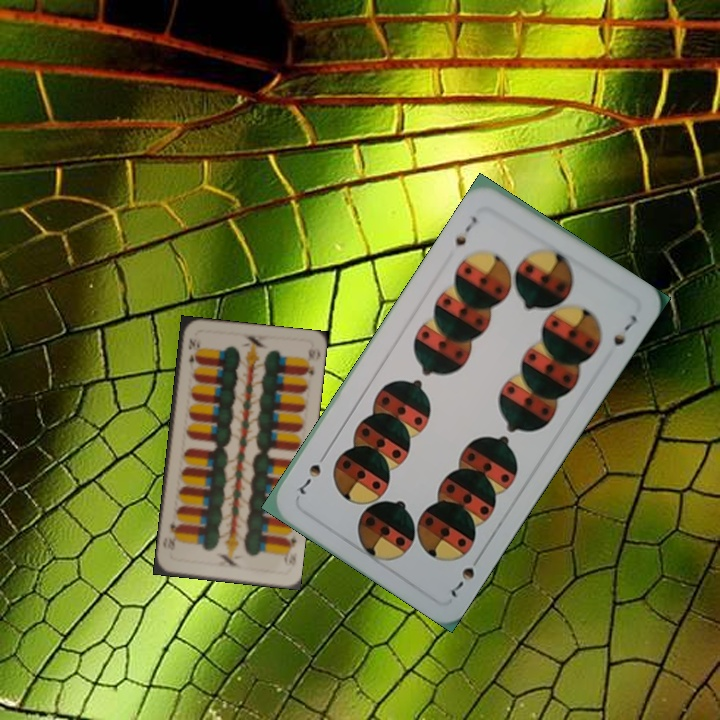E10: (280, 532, 300, 569), (184, 334, 201, 372)
S7: (446, 549, 485, 600), (450, 212, 480, 249)
